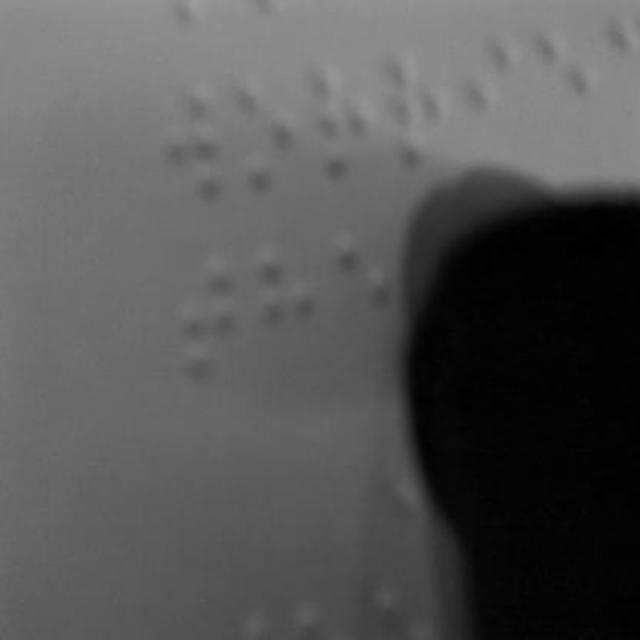braiile: (232, 60, 306, 204), (327, 230, 399, 372), (310, 48, 378, 188), (383, 43, 455, 175), (249, 236, 315, 380), (175, 246, 239, 392), (160, 72, 226, 205), (532, 24, 594, 160), (461, 38, 522, 164)
